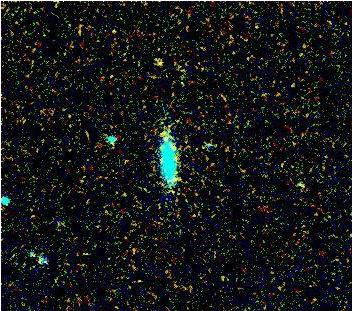star: (141, 54, 171, 84)
